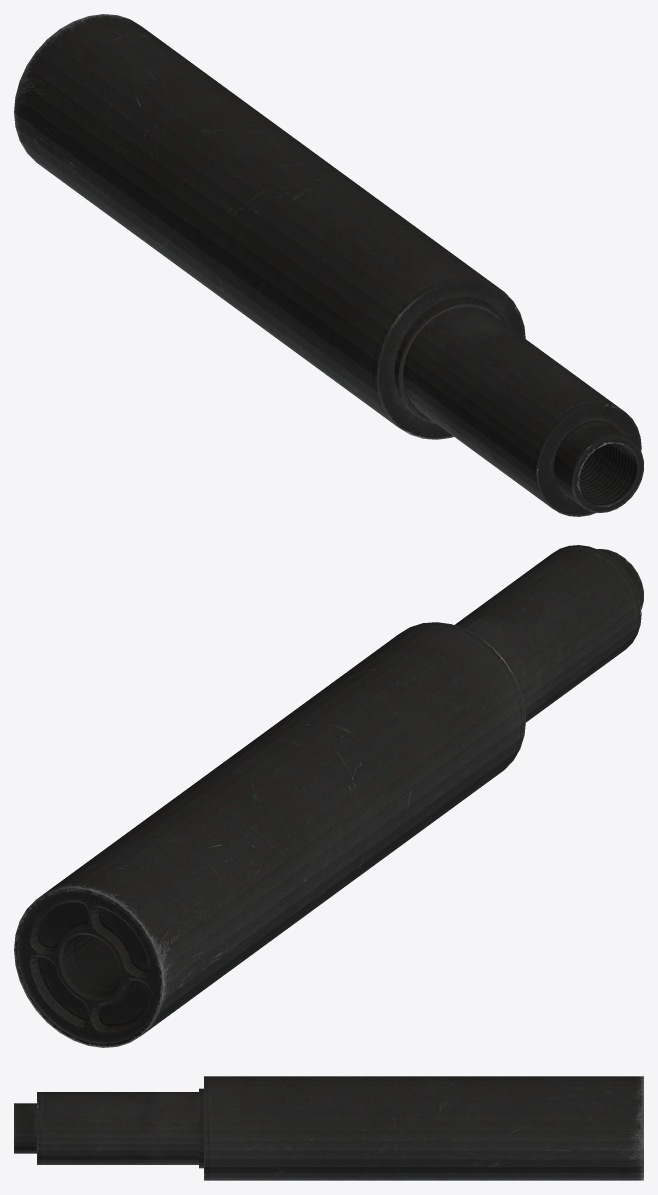
3 renders of one model, top to bottom at view 1: azimuth 30°, elevation 25°; view 2: azimuth 150°, elevation 25°; view 3: azimuth 270°, elevation 25°, orthographic. The views are drawn at different scales.
Parts seen in each view (by area): view 1: TW_58aeac1b86f77457c419f475_PZ_Import; view 2: TW_58aeac1b86f77457c419f475_PZ_Import; view 3: TW_58aeac1b86f77457c419f475_PZ_Import.
Part boxes in pixels (x1,y1,x2,y2): TW_58aeac1b86f77457c419f475_PZ_Import: [14, 14, 643, 516]; TW_58aeac1b86f77457c419f475_PZ_Import: [14, 545, 643, 1047]; TW_58aeac1b86f77457c419f475_PZ_Import: [14, 1076, 643, 1180].
Bounding box in the file's own units: 0.0216 × 0.1304 × 0.0216.
1 material, 1 textured.
